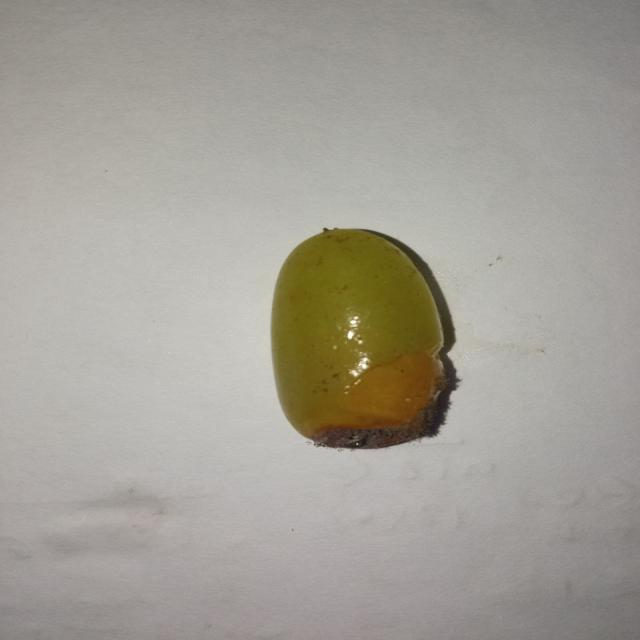rotten_grape: (274, 229, 456, 453)
